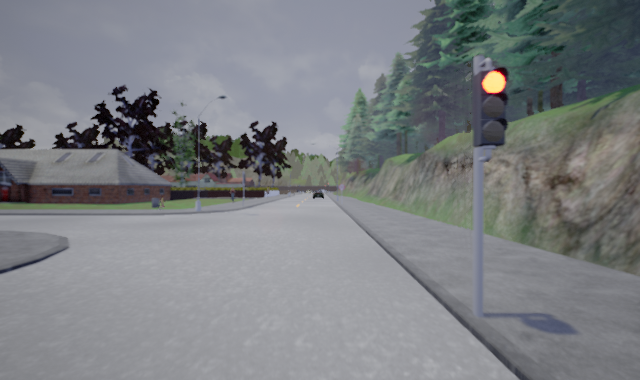pedestrian: (158, 194, 166, 210), (229, 186, 236, 203)
